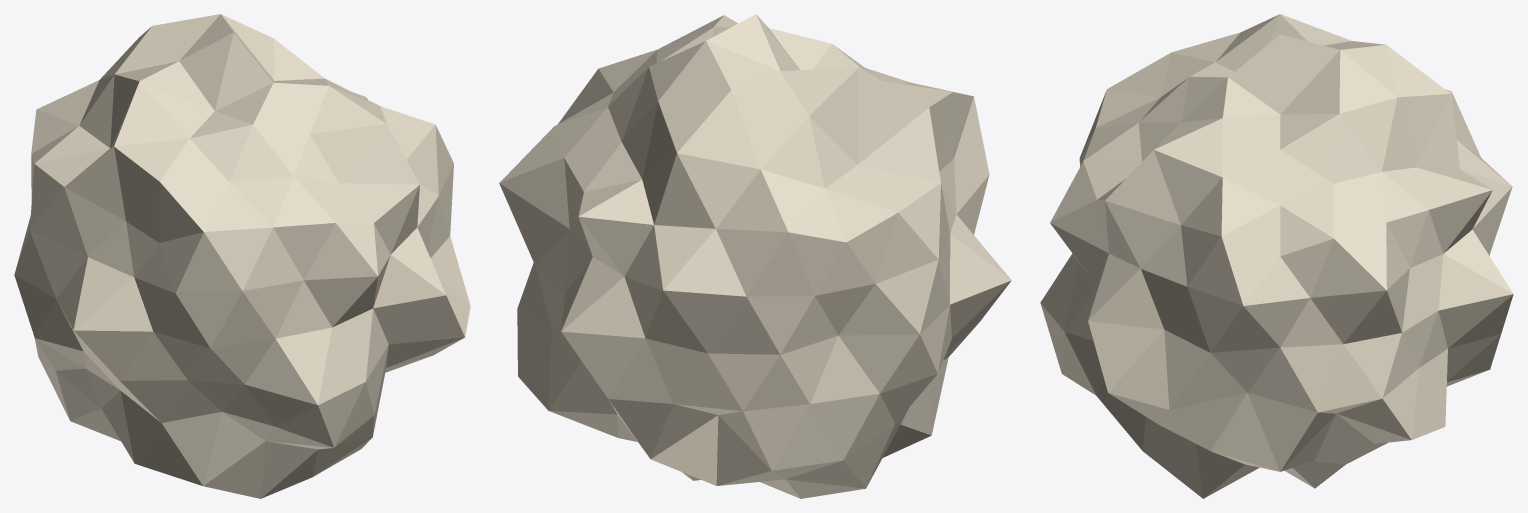
The model's file is PaperBall.fbx.
3 views of the same model, side by side, from view 1: azimuth 30°, elevation 25°; view 2: azimuth 150°, elevation 25°; view 3: azimuth 270°, elevation 25° (orthographic). The views are drawn at different scales.
Visible parts, largest first — view 1: Crumpled_Paper; view 2: Crumpled_Paper; view 3: Crumpled_Paper.
Part boxes in pixels (bbox=[...]): Crumpled_Paper: bbox=[14, 14, 470, 498]; Crumpled_Paper: bbox=[499, 14, 1011, 498]; Crumpled_Paper: bbox=[1040, 14, 1513, 498].
Bounding box in the file's own units: 0.12 × 0.122 × 0.1206.
